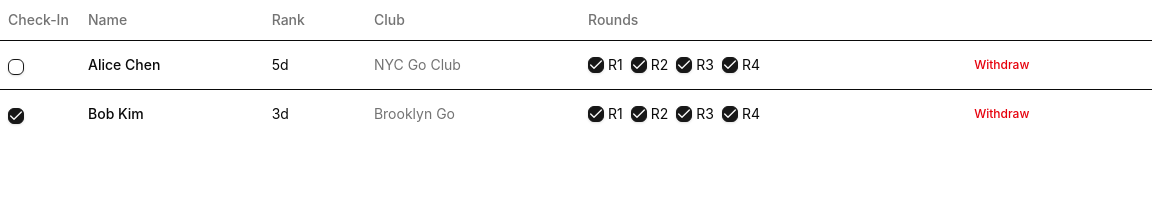
RegistrationTable › check-in › toggling check-in updates locally and shows save bar
Expected: the text "Save Changes" is not shown
What coordinates should you click on to do the following:
click the checkbox named "Check in Alice Chen"
I would click on:
 (16, 66)
Its box is [8,58,24,74].
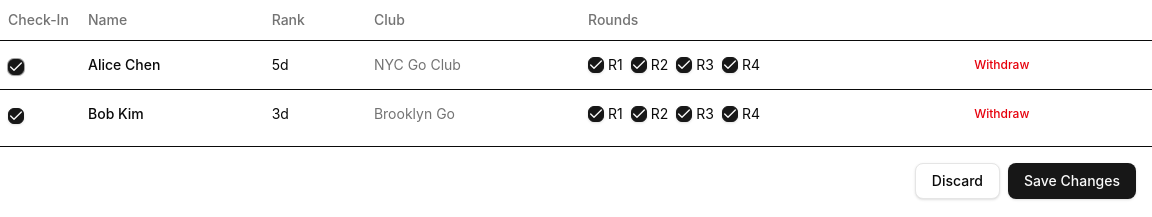
Result: the checkbox named "Check in Alice Chen" is checked at [8,58,24,74]
Result: the button "Save Changes" is shown at [1008,162,1136,198]
